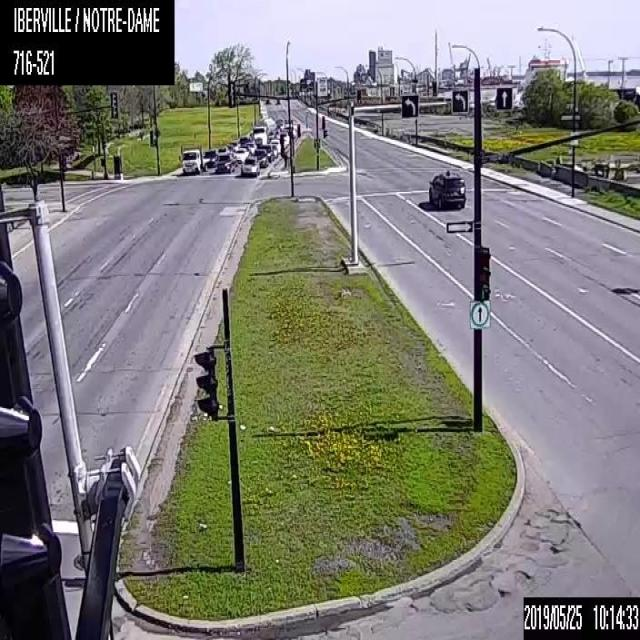vehicle: (426, 168, 466, 208), (181, 144, 214, 176), (240, 155, 259, 176), (216, 154, 237, 172), (252, 124, 268, 145), (251, 148, 268, 167), (203, 148, 218, 164), (233, 146, 248, 161), (269, 138, 281, 152)
